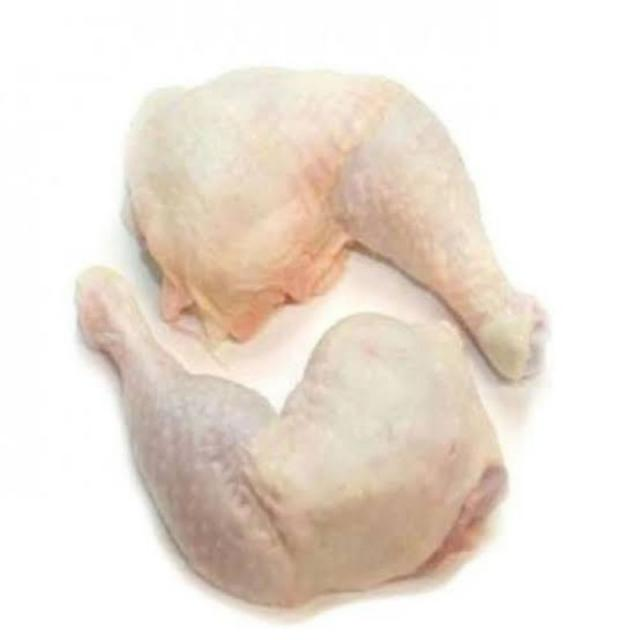chicken: (74, 262, 508, 608), (132, 69, 545, 380)
